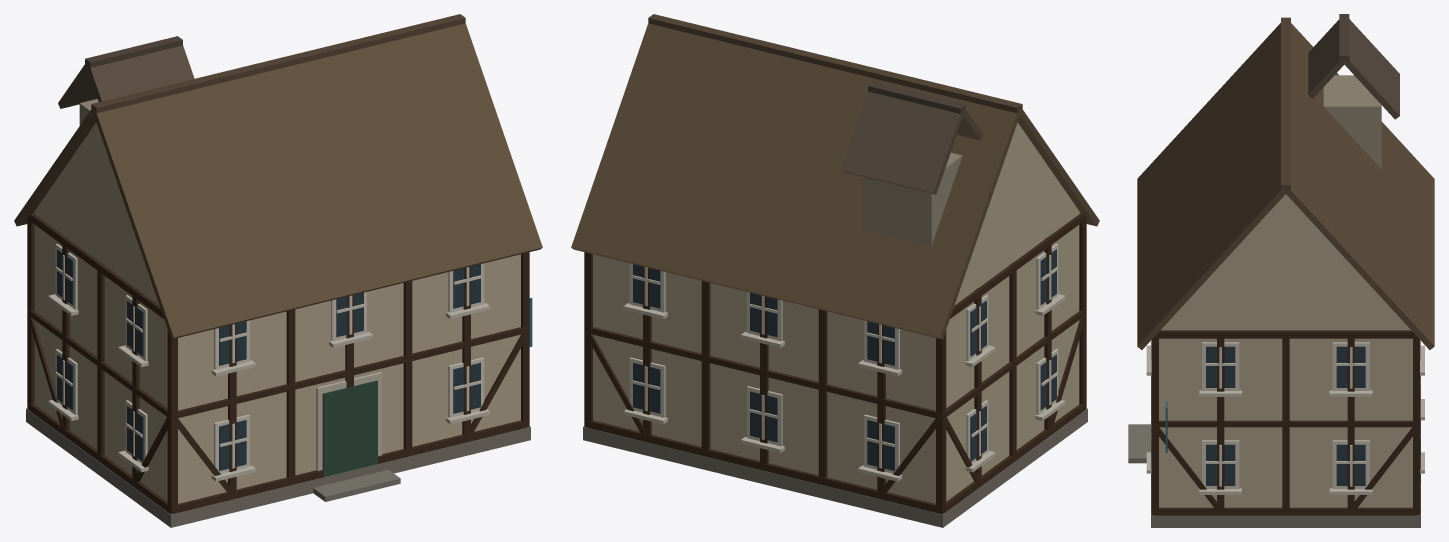
File: procedural_university@3.glb
The picture shows the model from 3 angles, left to right: view 1: azimuth 30°, elevation 25°; view 2: azimuth 150°, elevation 25°; view 3: azimuth 270°, elevation 25°; orthographic projection. The views are drawn at different scales.
Parts seen in each view (by area): view 1: part_0; view 2: part_0; view 3: part_0.
Boxes of the visible parts, box(x1,y1,x2,y2) form: part_0: box(14, 14, 542, 527); part_0: box(571, 14, 1099, 527); part_0: box(1128, 14, 1434, 527).
Size of the model in its own units: 8.93 by 8.82 by 6.8.
